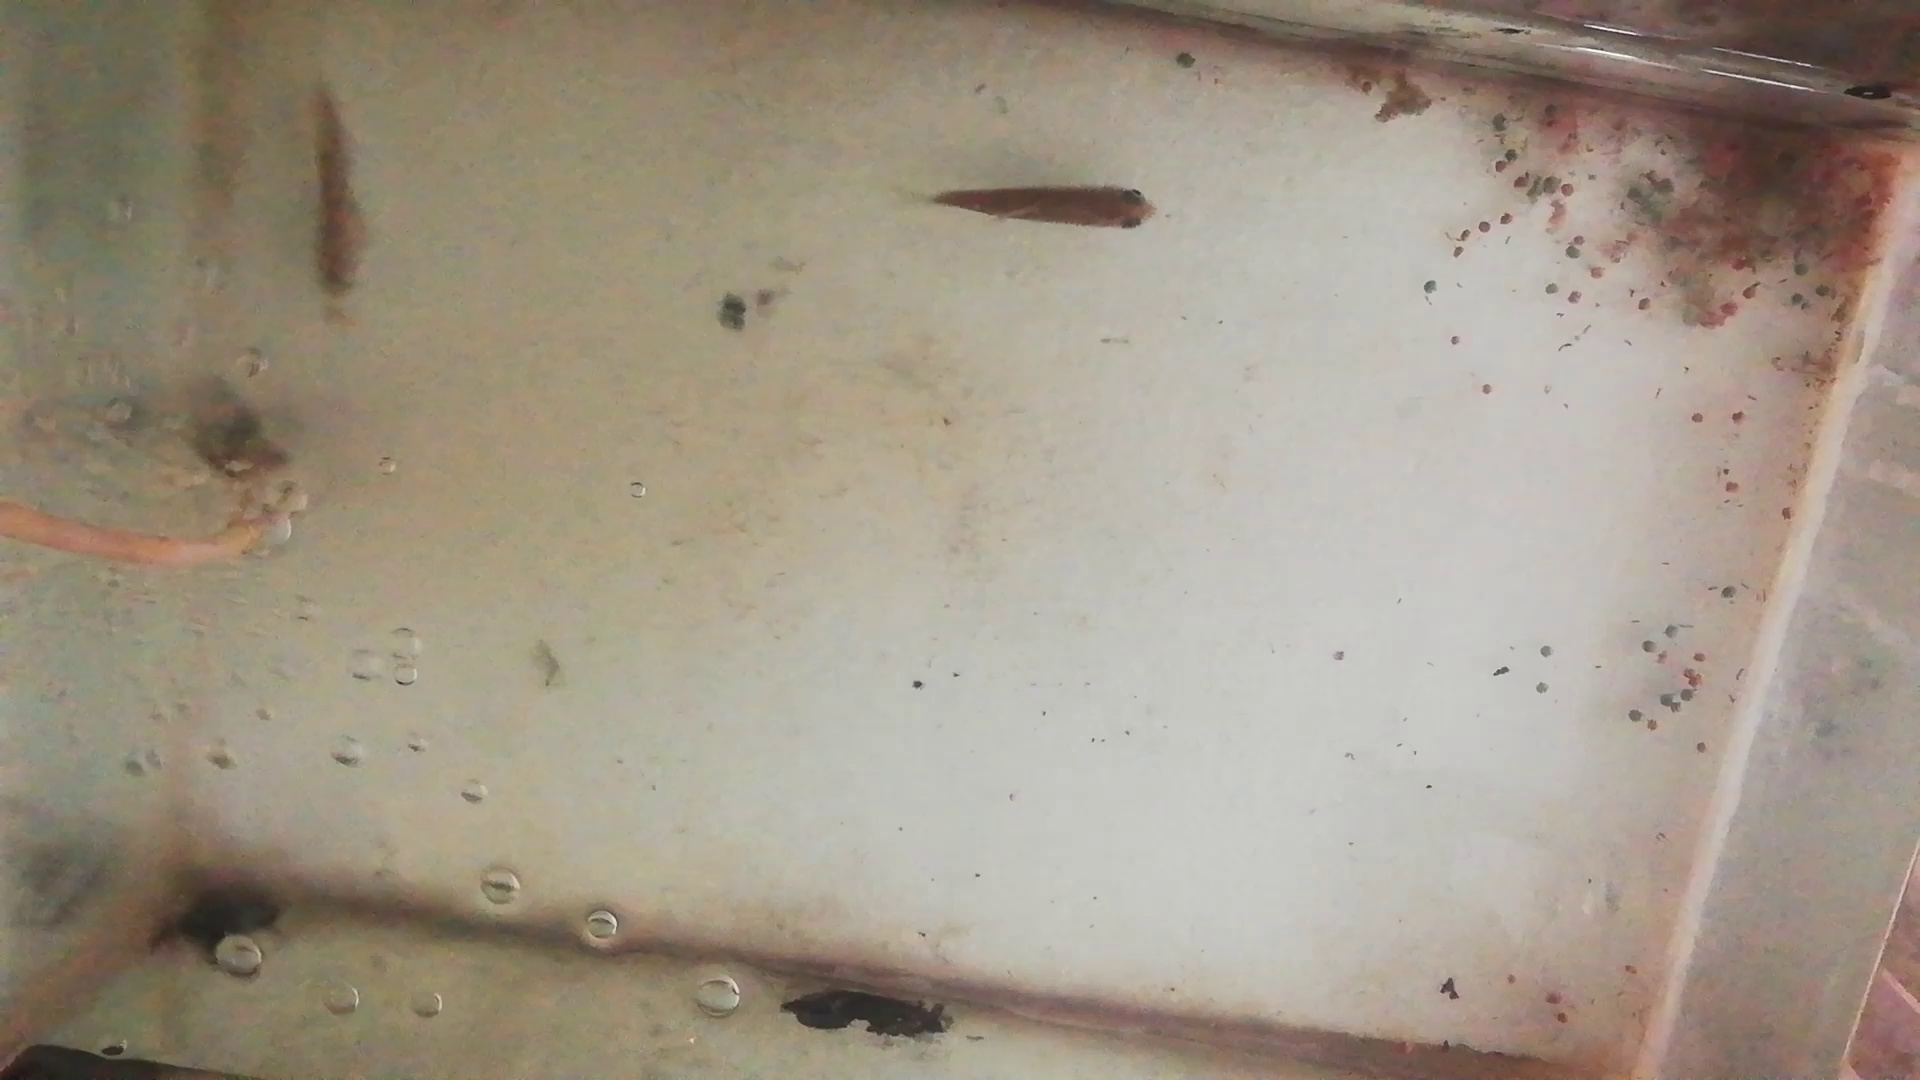fish: (303, 76, 368, 319), (928, 175, 1163, 239)
